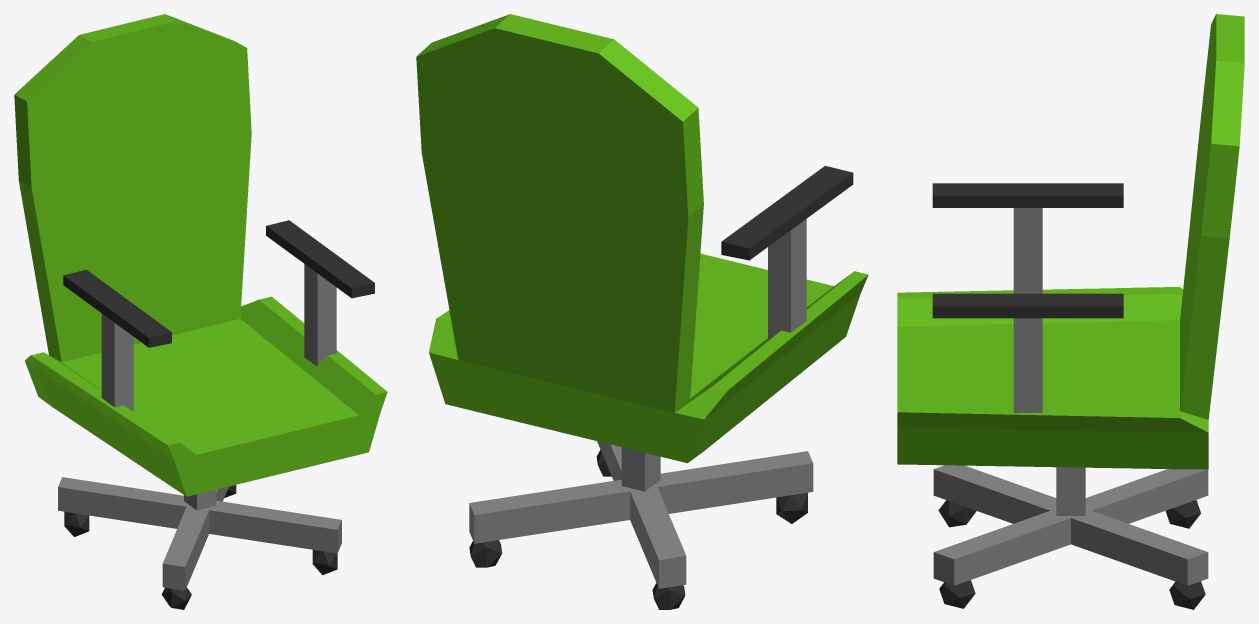
The model's file is Chair_Green.fbx.
3 views of the same model, side by side, from view 1: azimuth 30°, elevation 25°; view 2: azimuth 150°, elevation 25°; view 3: azimuth 270°, elevation 25° (orthographic). The views are drawn at different scales.
Parts seen in each view (by area): view 1: Chair_Green; view 2: Chair_Green; view 3: Chair_Green.
Boxes of the visible parts, <box> form: Chair_Green: <box>14,14,387,609</box>; Chair_Green: <box>416,14,868,609</box>; Chair_Green: <box>897,14,1244,609</box>.
Bounding box in the file's own units: 52.6 × 98.72 × 58.86.
1 material, 1 textured.
